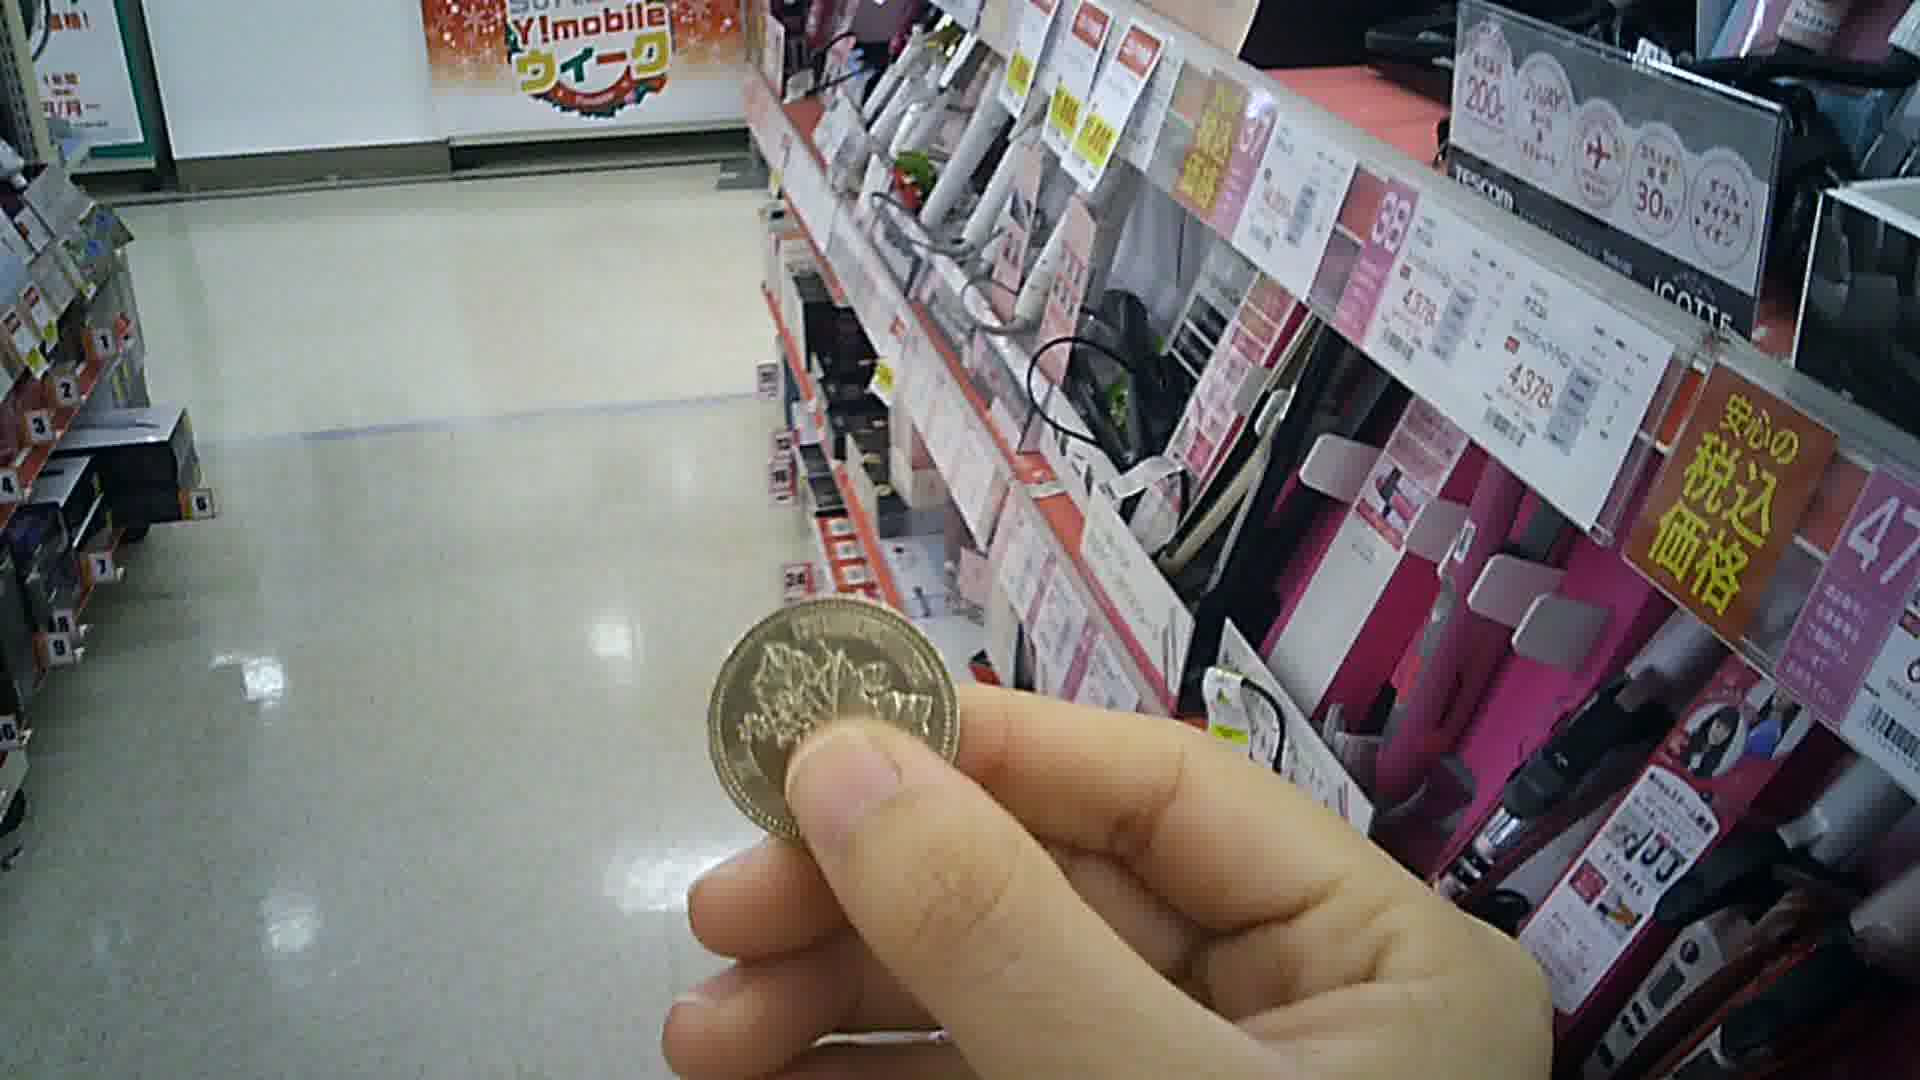500 Yen: (709, 596, 960, 851)
